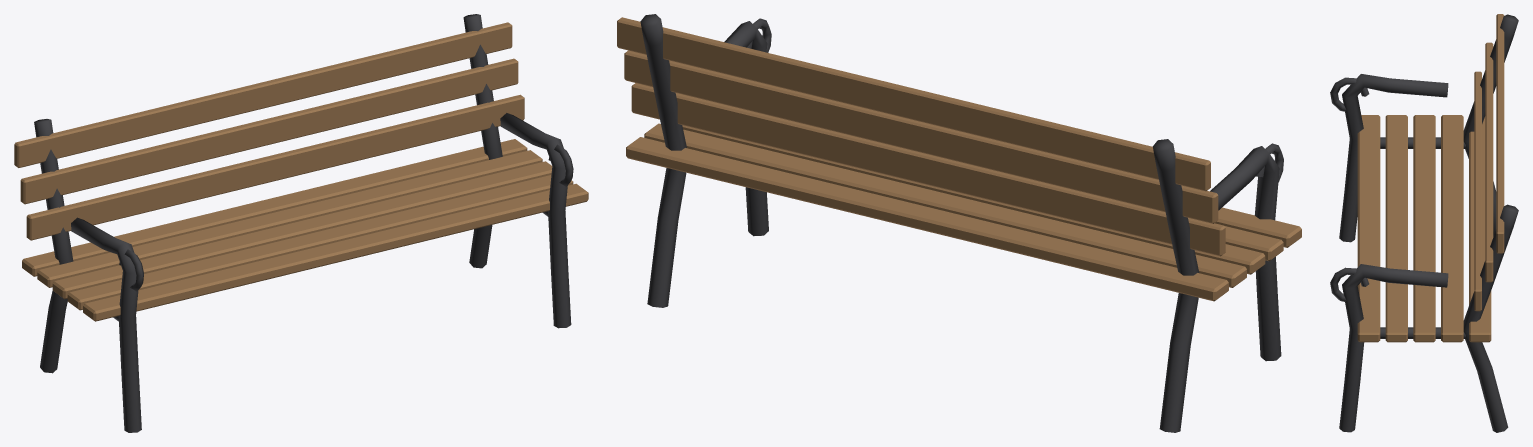
File: bench_classic.glb
3 views of the same model, side by side, from view 1: azimuth 30°, elevation 25°; view 2: azimuth 150°, elevation 25°; view 3: azimuth 270°, elevation 25° (orthographic). The views are drawn at different scales.
Visible parts, largest first — view 1: bench_classic; view 2: bench_classic; view 3: bench_classic.
Boxes of the visible parts, x1,y1,x2,y2 form: bench_classic: (14, 14, 588, 432); bench_classic: (617, 14, 1301, 432); bench_classic: (1330, 14, 1518, 432).
Size of the model in its own units: 1.96 by 0.9352 by 0.7131.
